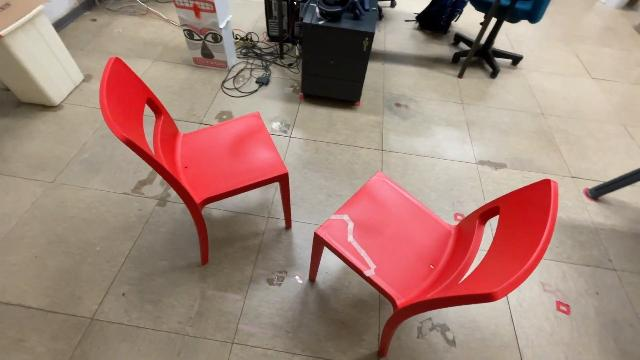Chair: (302, 166, 566, 360), (96, 55, 294, 270)
